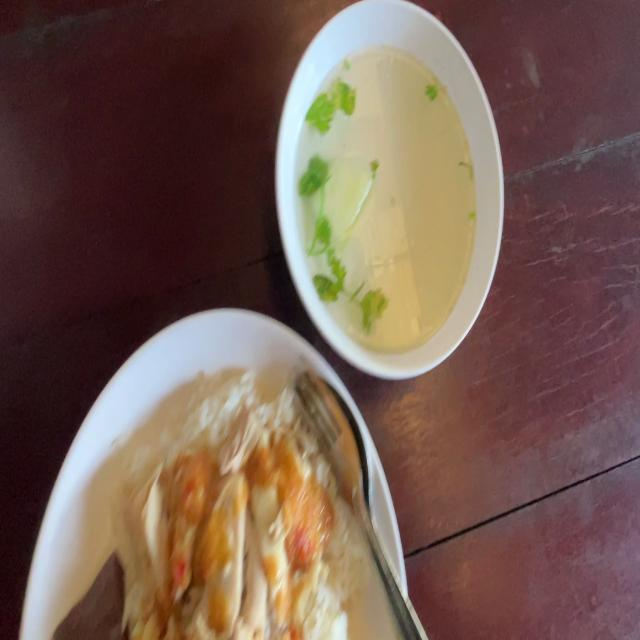chicken_rice: (144, 448, 324, 630)
noodle: (49, 547, 126, 640)
